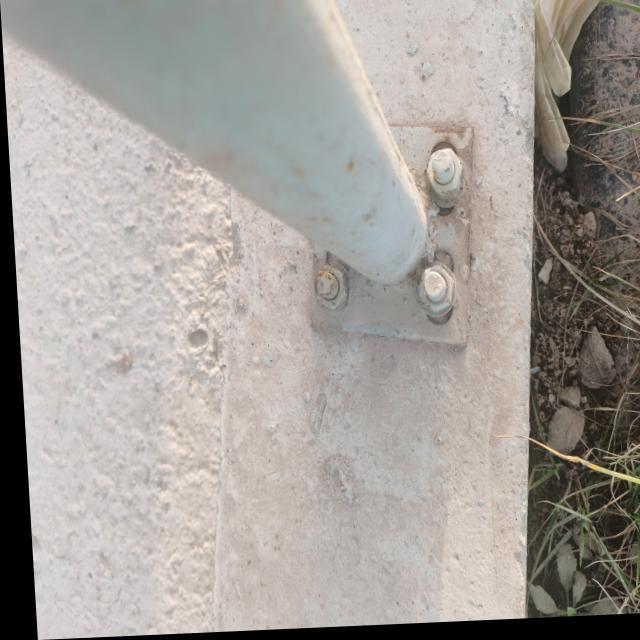Regular bolt: (424, 153, 463, 204), (415, 269, 452, 318), (310, 269, 345, 314)
